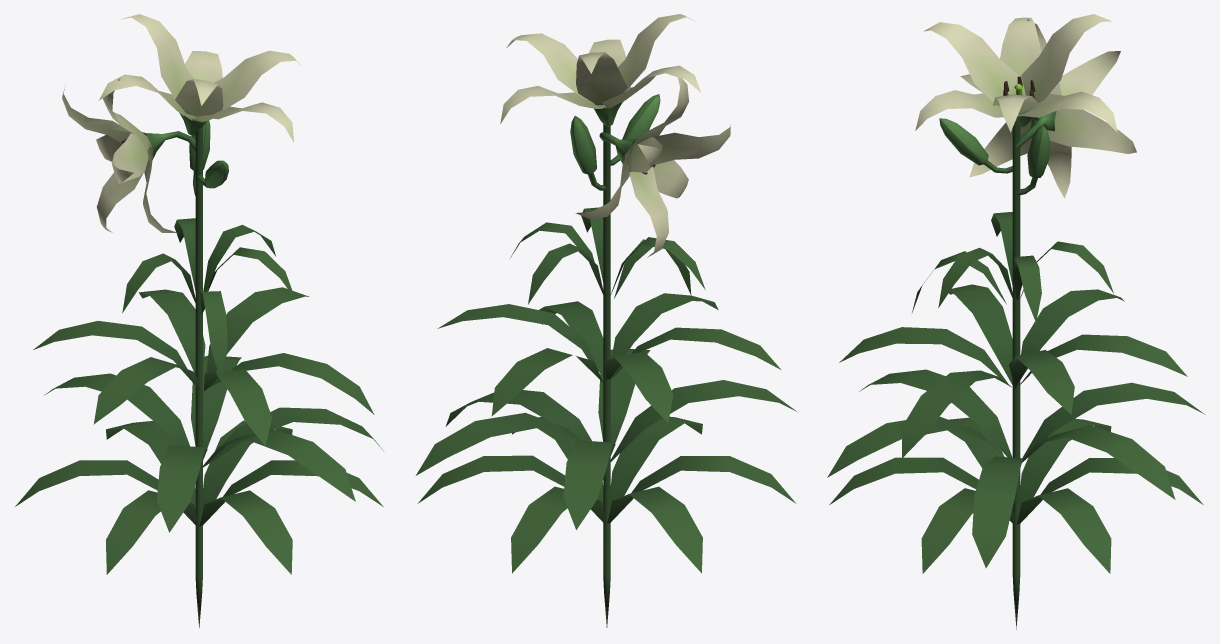
Rendered from plants-flowers-white-lily_v3.fbx.
3 views of the same model, side by side, from view 1: azimuth 30°, elevation 25°; view 2: azimuth 150°, elevation 25°; view 3: azimuth 270°, elevation 25° (orthographic). The views are drawn at different scales.
Parts seen in each view (by area): view 1: White Lily_v3; view 2: White Lily_v3; view 3: White Lily_v3.
Boxes of the visible parts, x1=… form: White Lily_v3: x1=15, y1=14, x2=383, y2=627; White Lily_v3: x1=416, y1=14, x2=796, y2=627; White Lily_v3: x1=827, y1=14, x2=1205, y2=629.
Size of the model in its own units: 0.4948 by 0.9 by 0.5142.
